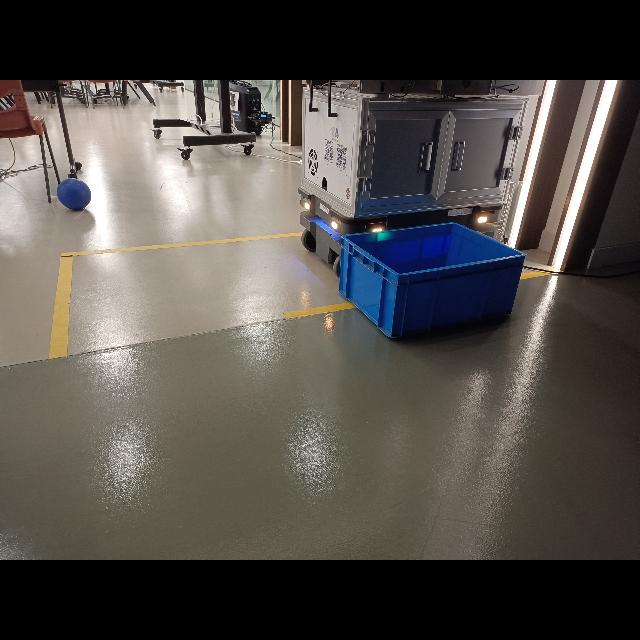B: (57, 178, 91, 210)
